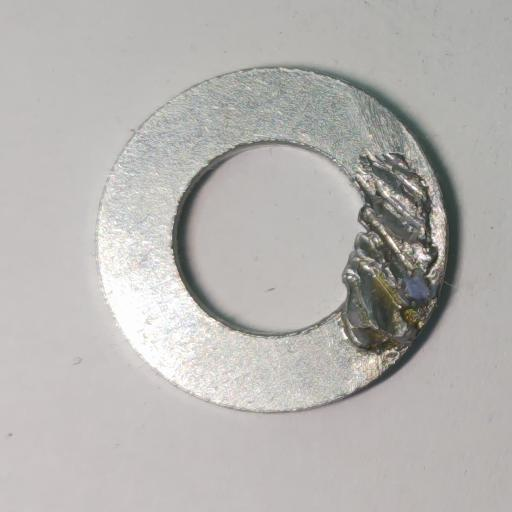excess_material: (341, 154, 438, 354)
